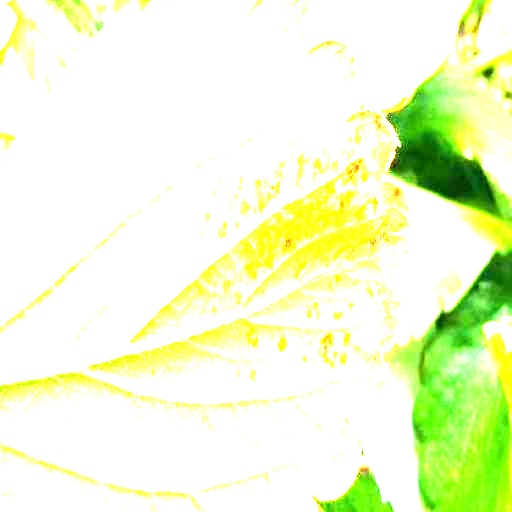Angular Leafspot: (188, 55, 404, 397)
